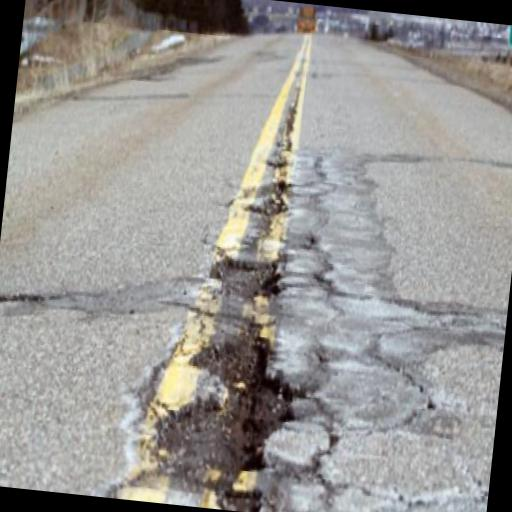pothole: (154, 324, 305, 512), (206, 250, 287, 302)
